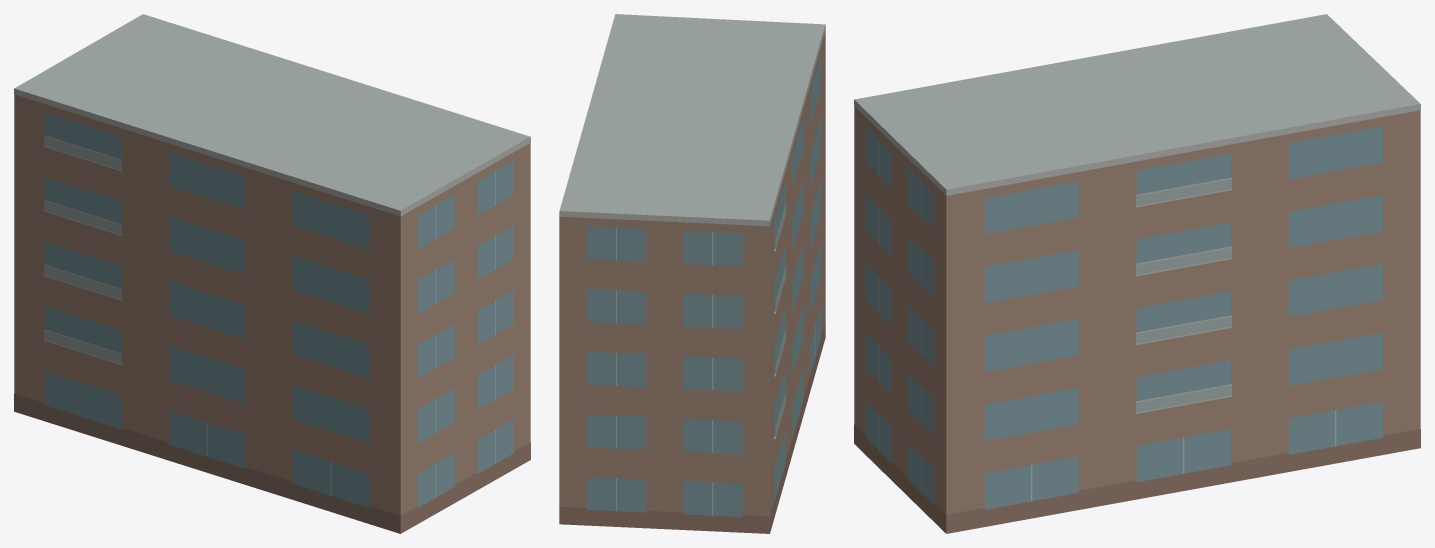
Rendered from survey-upis-32593566.glb.
The picture shows the model from 3 angles, left to right: view 1: azimuth 30°, elevation 25°; view 2: azimuth 150°, elevation 25°; view 3: azimuth 270°, elevation 25°; orthographic projection. The views are drawn at different scales.
Parts seen in each view (by area): view 1: survey-upis-32593566.tmp; view 2: survey-upis-32593566.tmp; view 3: survey-upis-32593566.tmp.
Boxes of the visible parts, x1,y1,x2,y2 form: survey-upis-32593566.tmp: (14, 14, 530, 533); survey-upis-32593566.tmp: (559, 14, 825, 533); survey-upis-32593566.tmp: (854, 14, 1420, 533).
Bounding box in the file's own units: 14.79 × 13.5 × 20.15.
